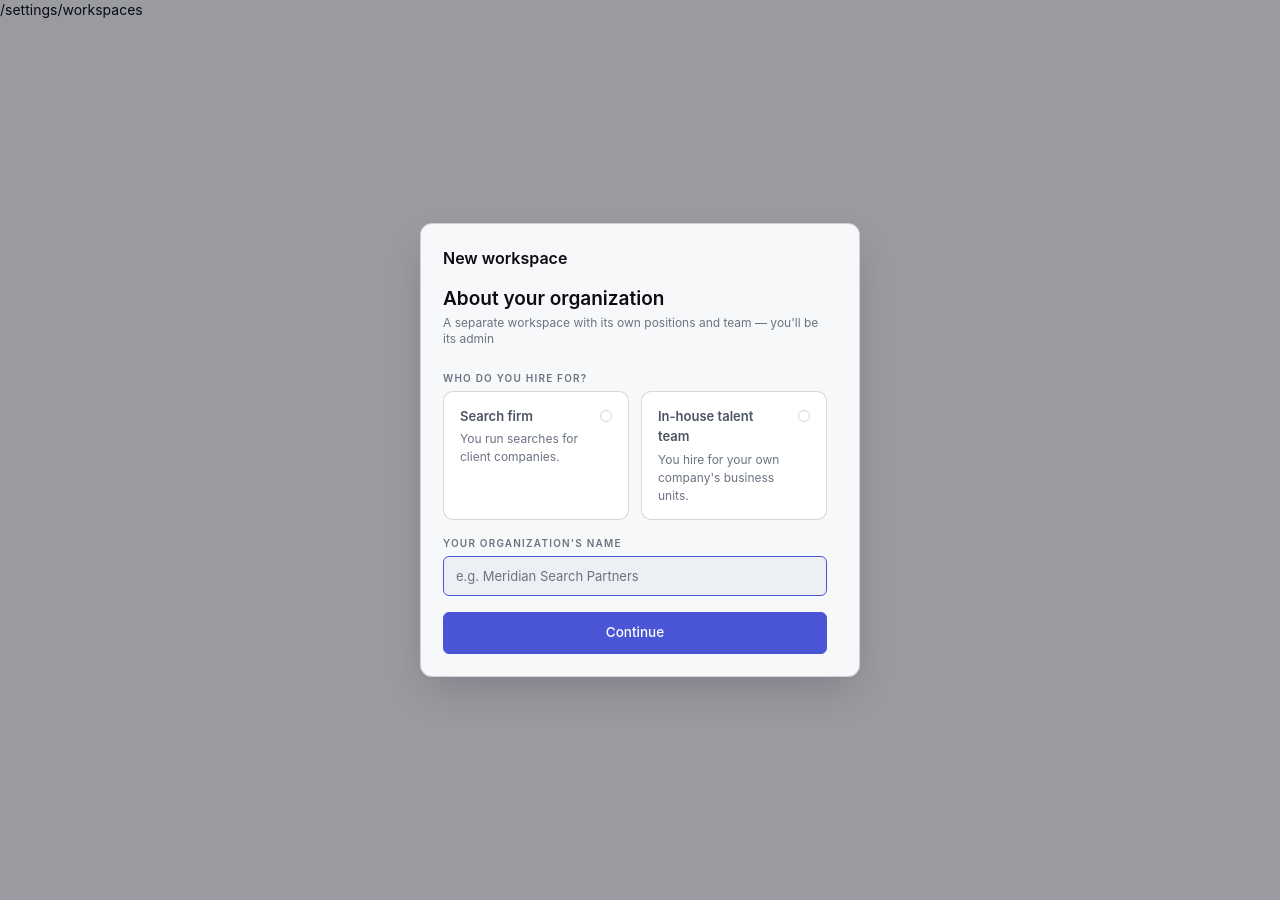
Test: NewWorkspaceModal › a failed switch is retried without founding the workspace twice
This screenshot has width=1280, height=900.
Step 1. Click the radio button labelled "Search firm You run searches for client companies." → x=536, y=455, box [443,391,629,520]
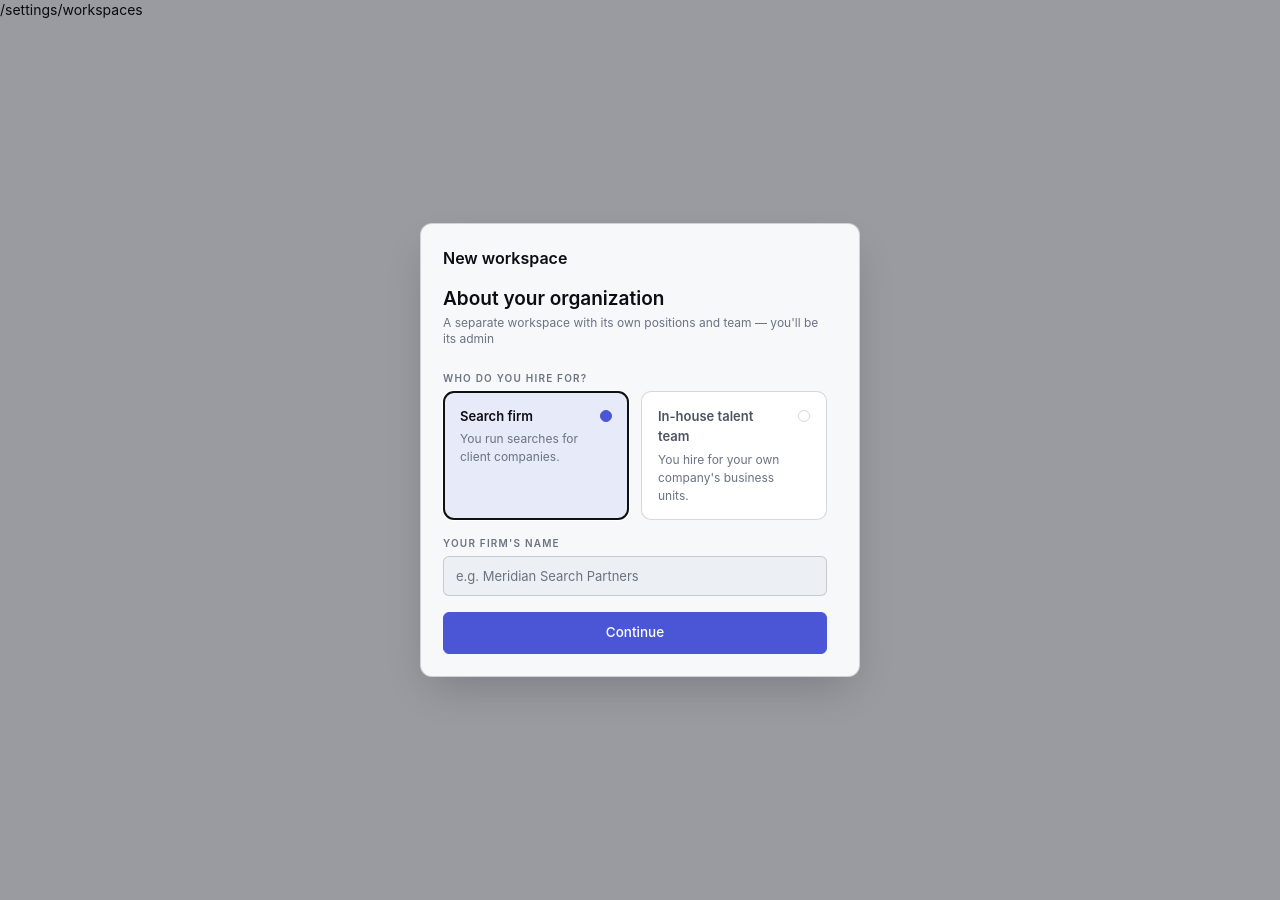
Step 2. Type "Merid" into the field with placeholder "e.g. Meridian Search Partners" → x=635, y=576, box [443,556,827,596]
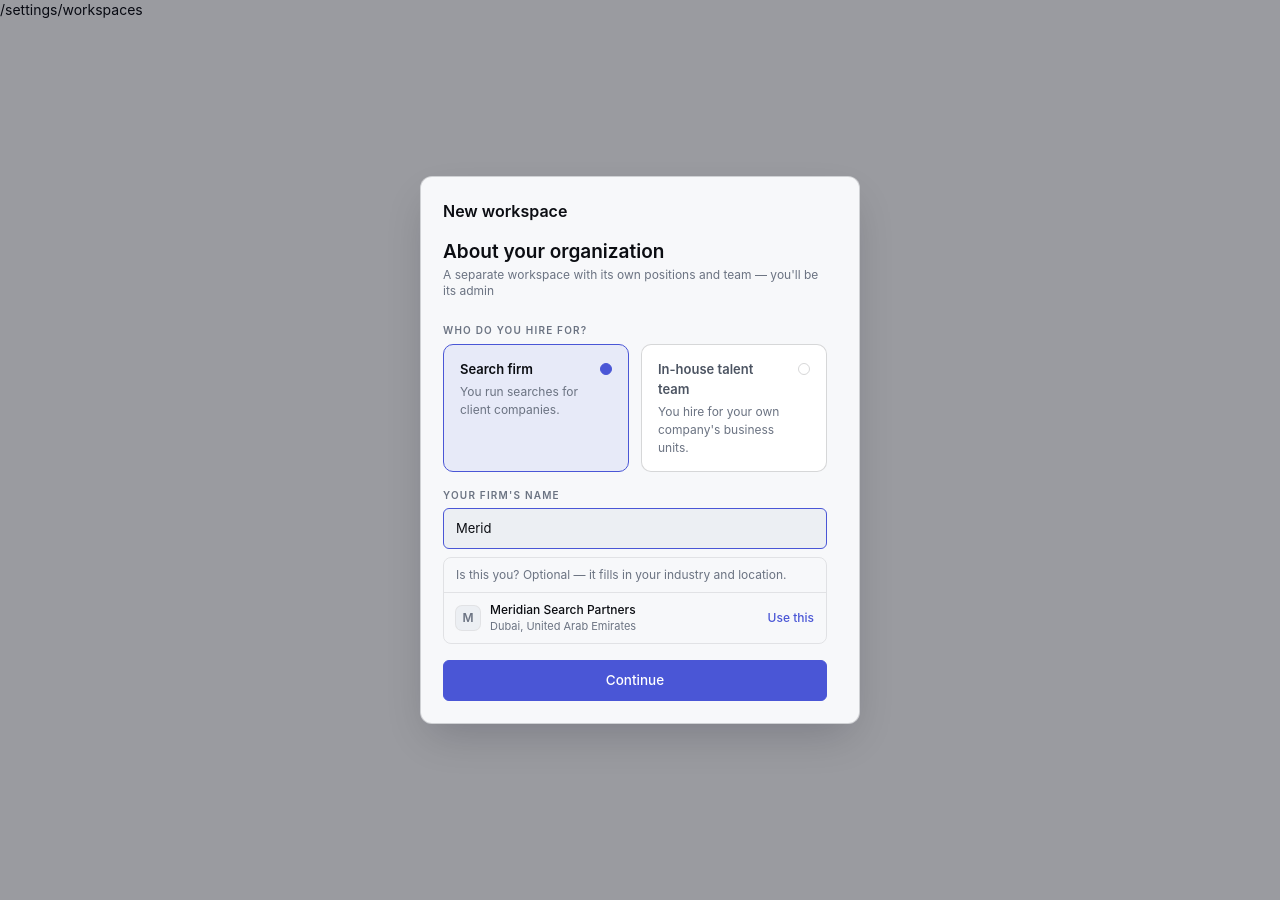
Step 3. Click the button named "Use this: Meridian Search Partners" → x=791, y=618, box [768,605,814,631]
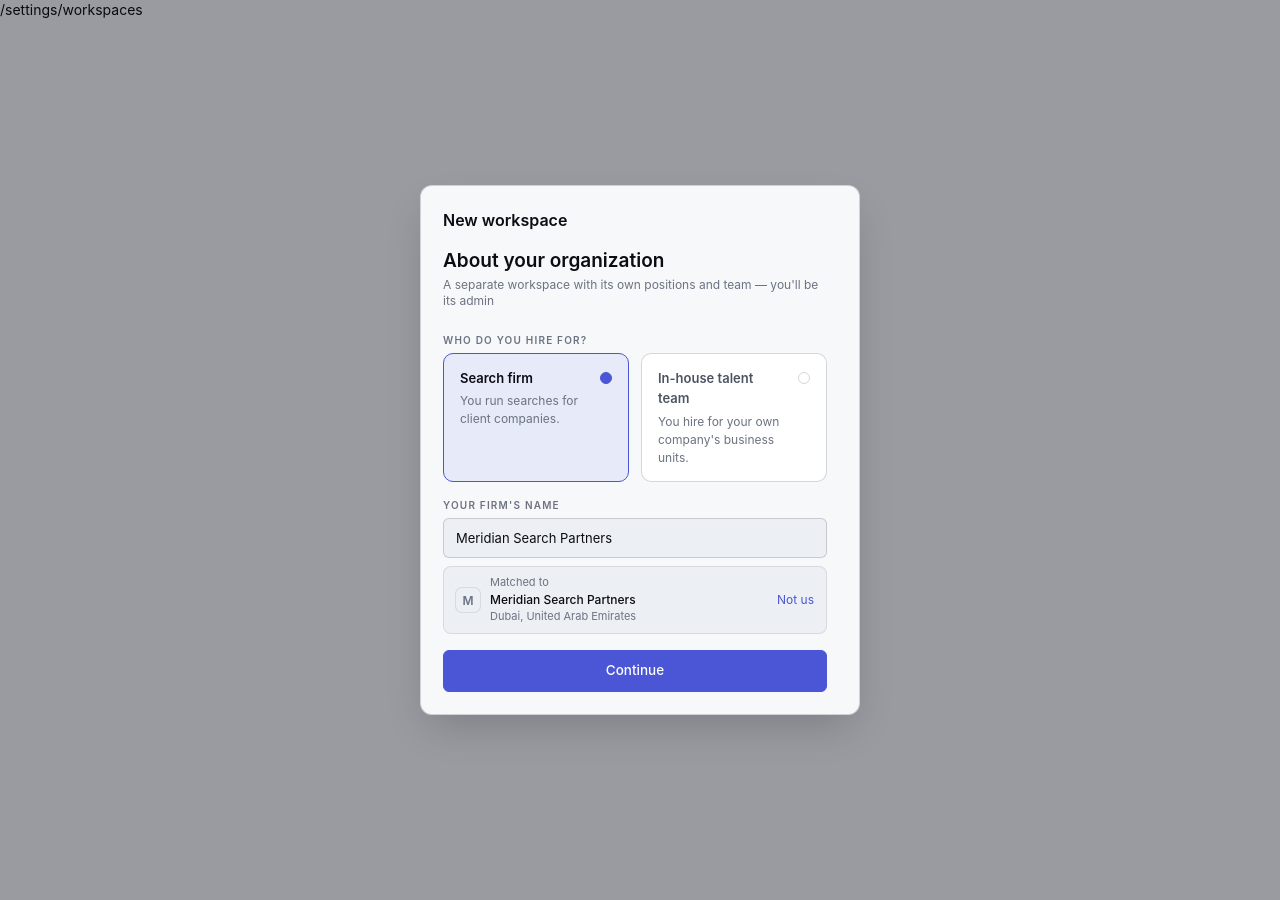
Step 4. Click the button "Continue" → x=635, y=671, box [443,650,827,692]
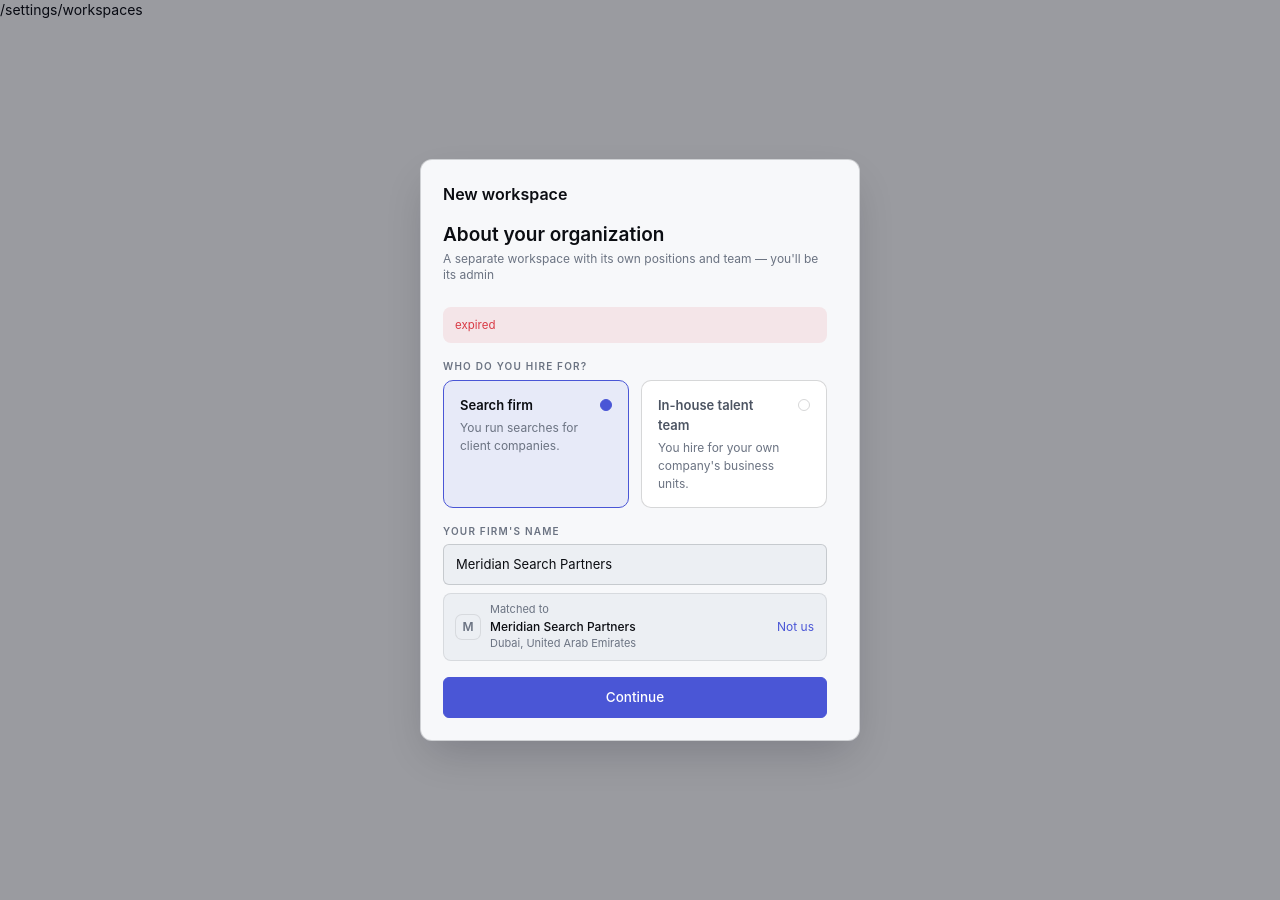
Check: the text "Invite your team" is not shown
Step 5. Click the button "Continue" → x=635, y=698, box [443,677,827,718]
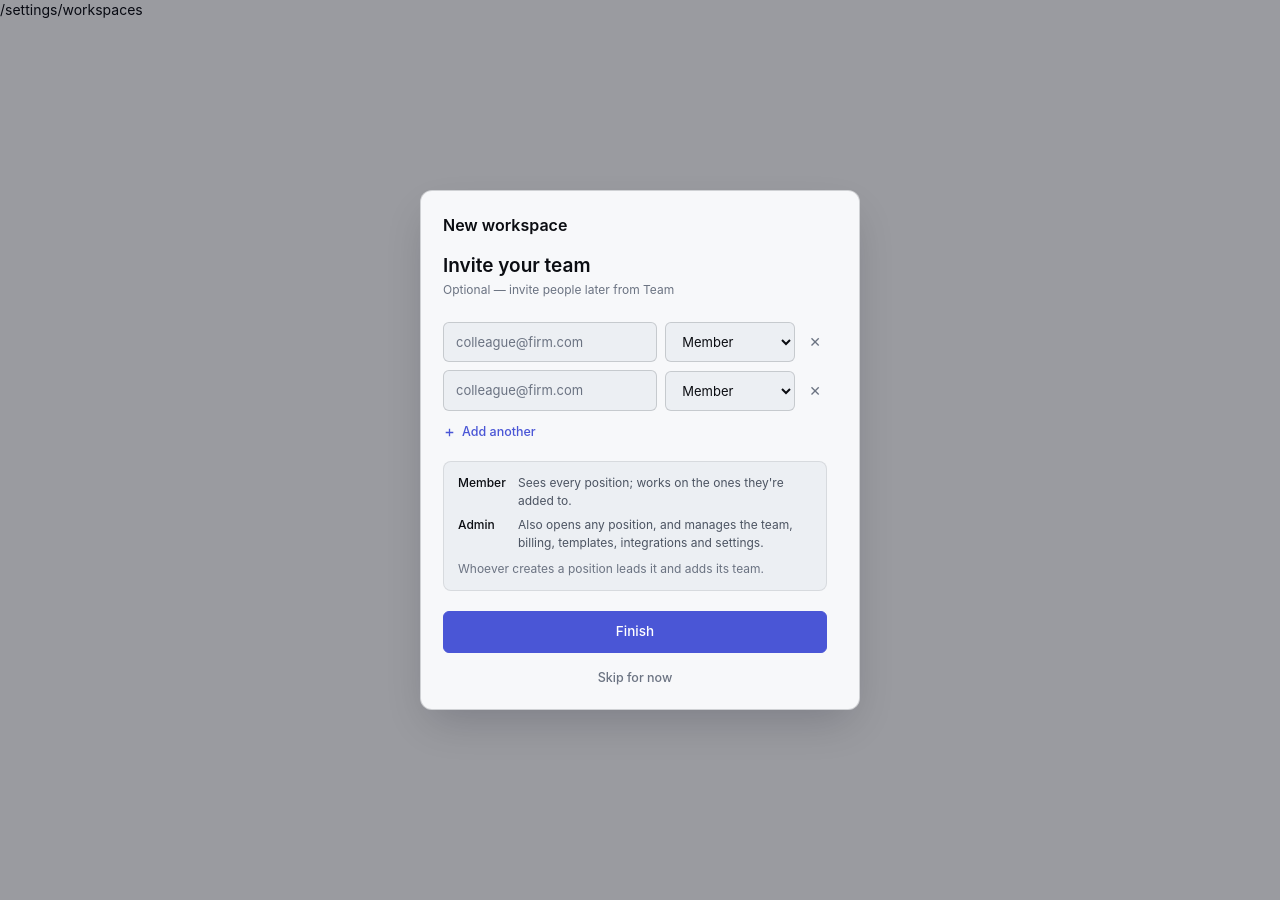
Check: the heading "Invite your team" is shown, box [443,254,591,277]
